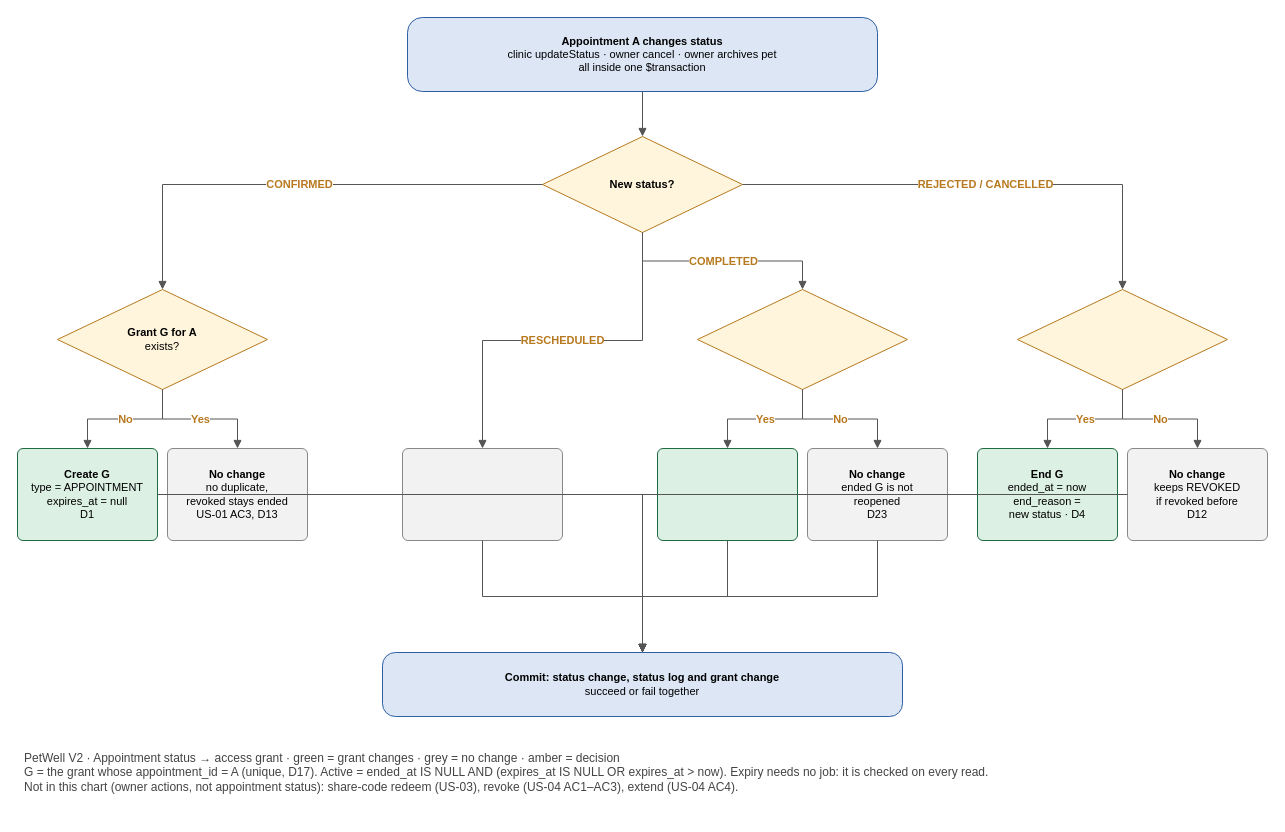
Some shapes in this 1285 by 832 pixel diagram are drawn without their labels. The shapes that lost their labels are listed below. From the top down, each one's centre as x and y in pixels, then its label:
point (802, 339): G active? (ended_at is null)
point (1122, 339): G exists and is active?
point (482, 494): No change G keeps its state US-01 AC3
point (727, 494): Set expiry expires_at = now + 30 days D2
